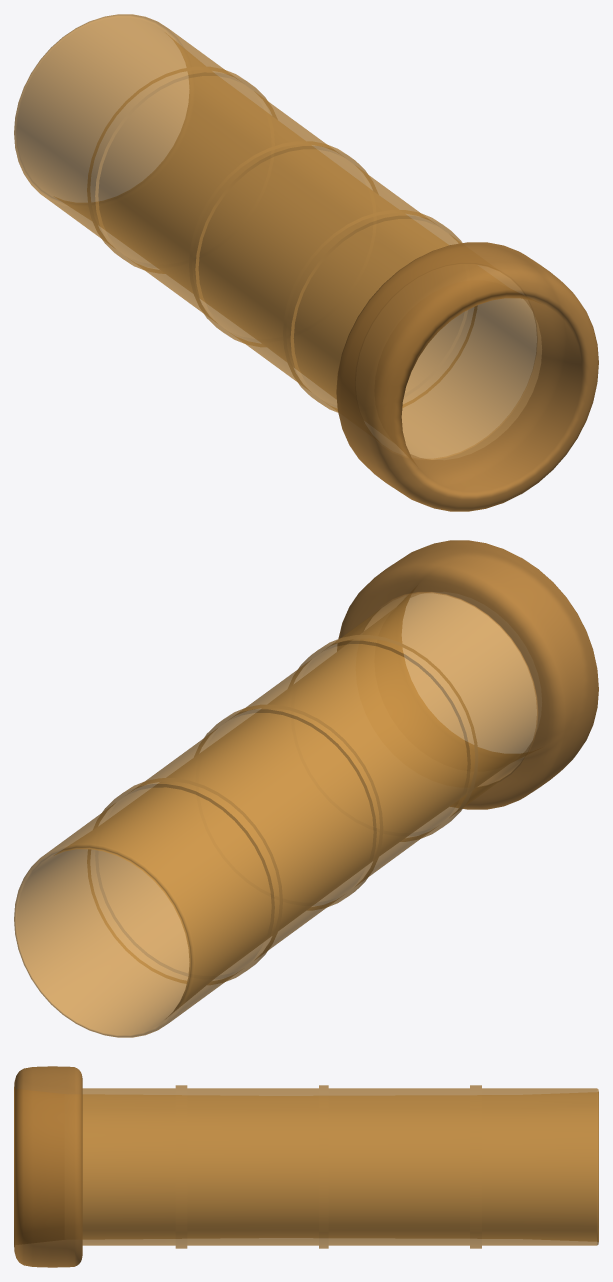
The model's file is TunnelOrange.fbx.
3 renders of one model, top to bottom at view 1: azimuth 30°, elevation 25°; view 2: azimuth 150°, elevation 25°; view 3: azimuth 270°, elevation 25°, orthographic. The views are drawn at different scales.
Visible parts, largest first — view 1: Tunnel; view 2: Tunnel; view 3: Tunnel.
Part boxes in pixels (left/top/right/bottom): Tunnel: left=14, top=14, right=598, bottom=511; Tunnel: left=14, top=540, right=598, bottom=1037; Tunnel: left=14, top=1066, right=598, bottom=1267.
Bounding box in the file's own units: 3.13 × 3.13 × 9.09.
